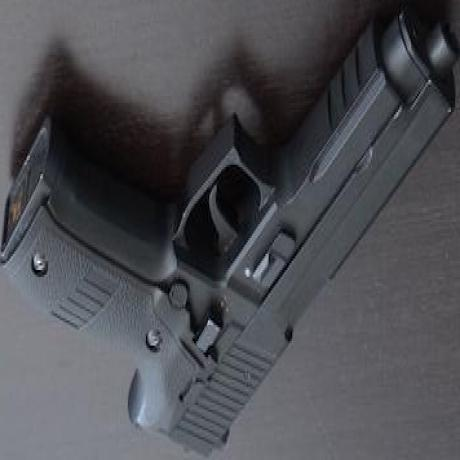weapon: (0, 23, 458, 460)
